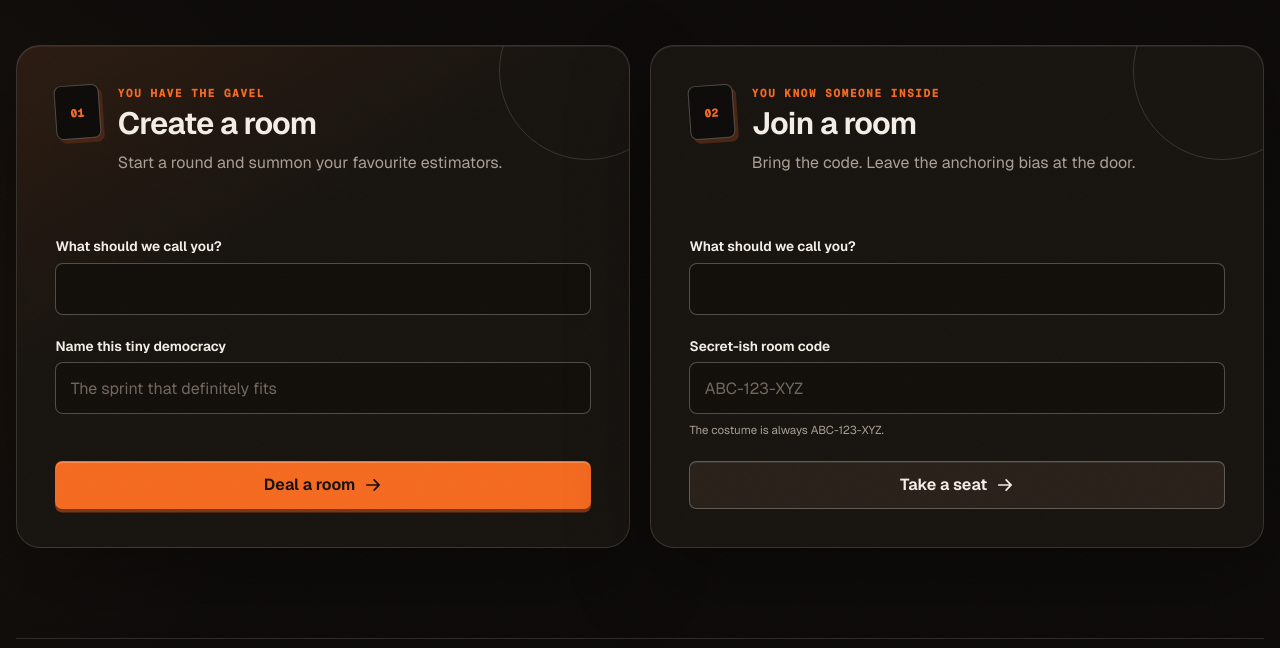
planning-poker workflows › validates a room code before trying to join
(page scrolled)
Type "Bob" into the field labelled "What should we call you?" below "You know someone inside". click: x=957, y=289
box: x1=689 y1=263 x2=1225 y2=315
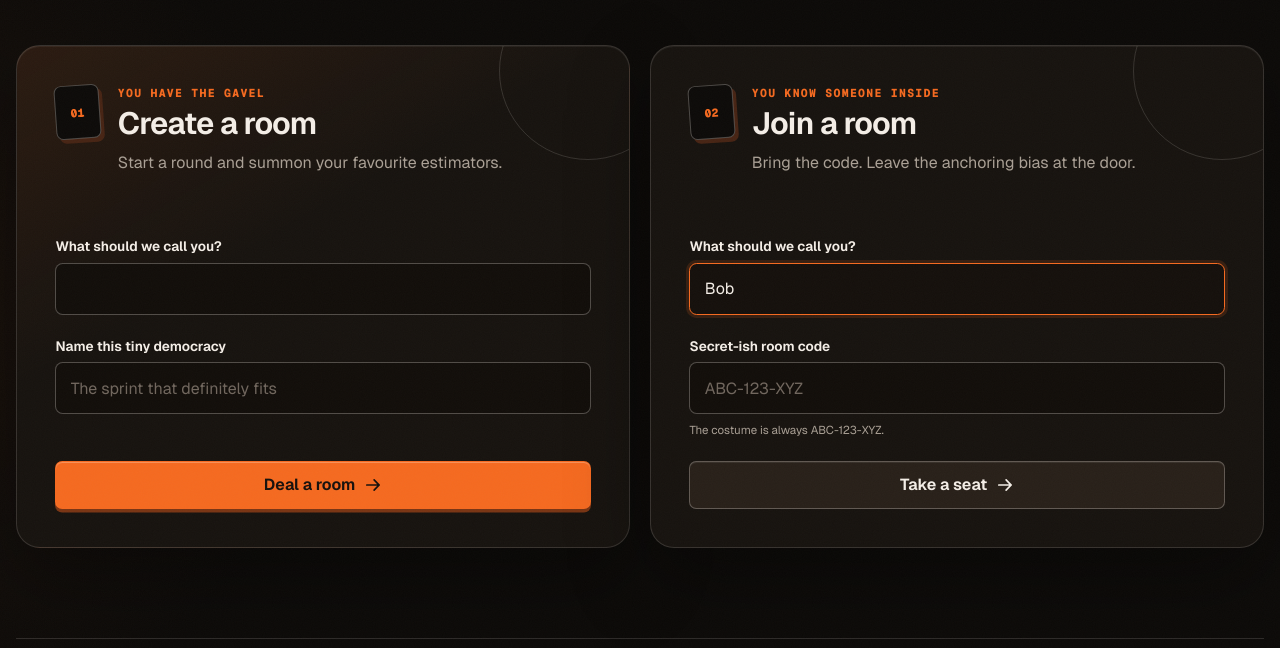
Type "bad" into the field labelled "Secret-ish room code". click: x=957, y=388
box: x1=689 y1=362 x2=1225 y2=414
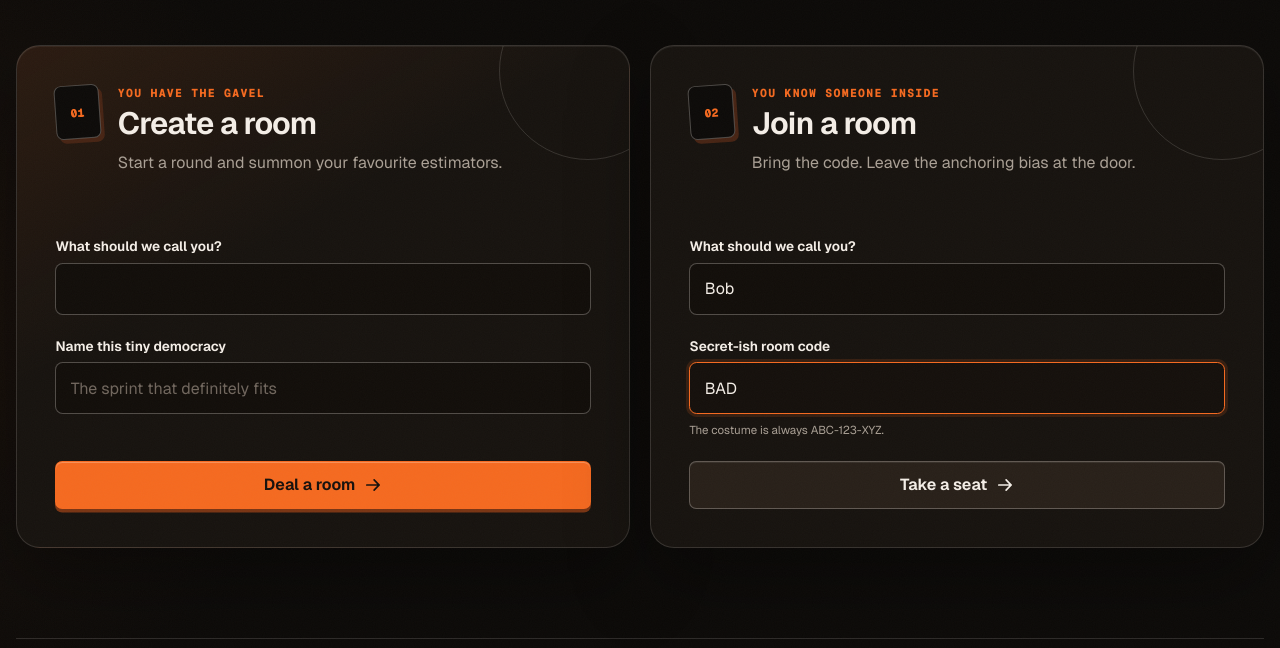
Click the button "Take a seat". click: x=957, y=485
box: x1=689 y1=461 x2=1225 y2=509
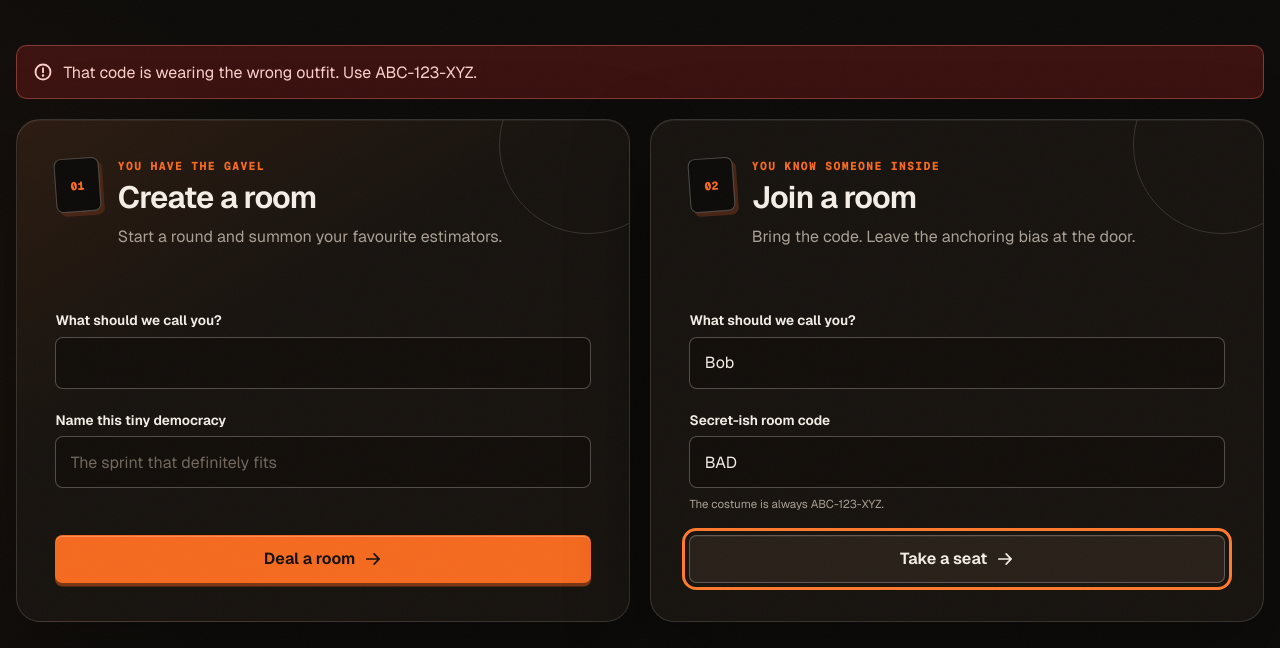
Result: the message shows "ABC-123-XYZ" at x1=63 y1=62 x2=477 y2=82
